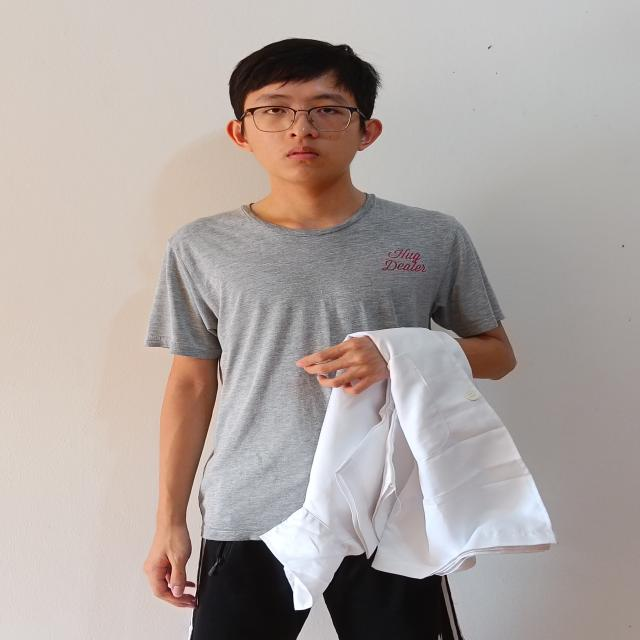person_without_labcoat: (144, 39, 554, 640)
